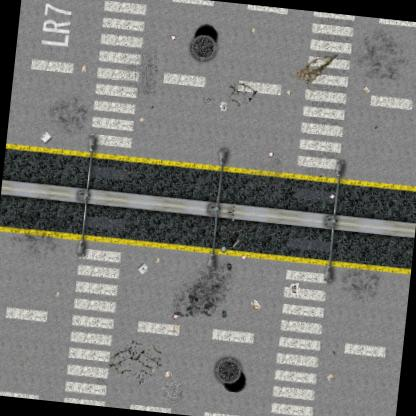manholes: (206, 346, 260, 398), (181, 13, 227, 68)
